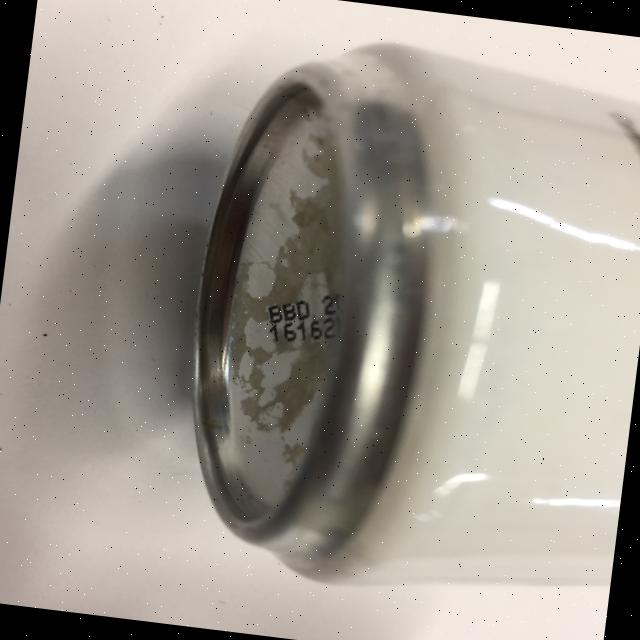metal: (162, 19, 640, 616)
